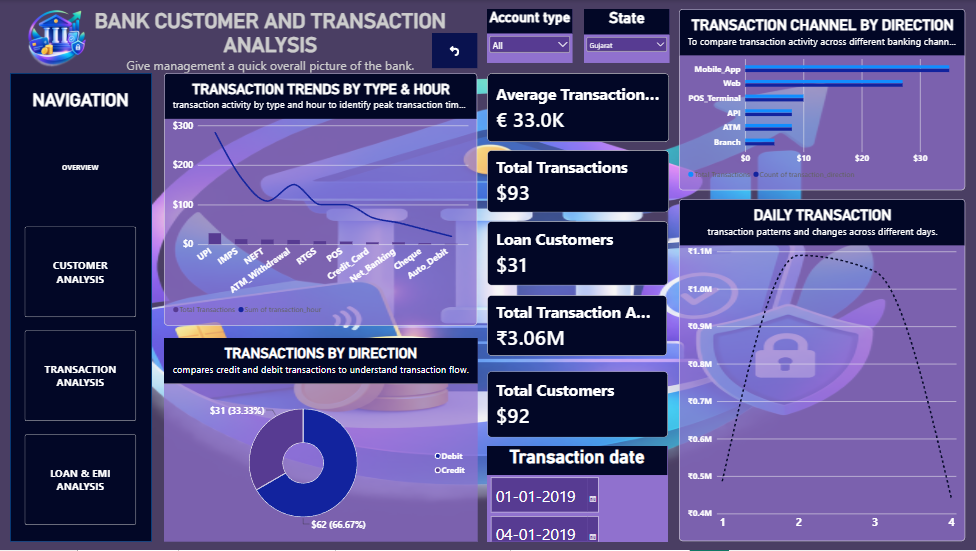

What the dashboard file says about the page in this screenshot:
{"tool":"powerbi","page":{"name":"OVERVIEW","canvas":[1920,1080],"ordinal":0},"visuals":[{"type":"textbox","title":"BANK CUSTOMER AND TRANSACTION ANALYSIS","box":[125.3,17.3,814.3,125.3],"z":0},{"type":"shape","box":[21.6,142.6,278.6,920.2],"z":0,"group":"g1"},{"type":"actionButton","box":[1519.4,0,400.6,128.5],"z":1000},{"type":"image","box":[0,17.3,190.1,110.2],"z":2000},{"type":"cardVisual","fields":{"Data":["Sheet1.Loan Customers"]},"box":[959,434.2,356.4,127.4],"z":3000},{"type":"cardVisual","fields":{"Data":["Sheet1.Average Transaction Amount"]},"box":[959,142.6,358.6,136.1],"z":4000},{"type":"cardVisual","fields":{"Data":["Sheet1.Total Transactions"]},"box":[959,293.8,358.6,123.1],"z":5000},{"type":"cardVisual","fields":{"Data":["Sheet1.Total Transaction Amount"]},"box":[959,578.9,354.2,121],"z":6000},{"type":"cardVisual","fields":{"Data":["Sheet1.Total Customers"]},"box":[959,727.9,356.4,131.8],"z":7000},{"type":"lineChart","title":"DAILY TRANSACTION","fields":{"Category":["Sheet1.transaction_date.Variation.Date Hierarchy.Day"],"Y":["Sheet1.Total Transaction Amount"]},"box":[1334.9,391,561.6,671.8],"z":8000},{"type":"lineStackedColumnComboChart","title":"TRANSACTION TRENDS BY TYPE & HOUR","fields":{"Category":["Sheet1.transaction_type"],"Y":["Sheet1.Total Transactions"],"Y2":["Sum(Sheet1.transaction_hour)"]},"box":[324,142.6,614.8,496.4],"z":9000},{"type":"donutChart","title":"TRANSACTIONS BY DIRECTION","fields":{"Category":["Sheet1.transaction_direction"],"Y":["Sheet1.Total Transactions"]},"box":[324,663.1,615.6,399.6],"z":10000},{"type":"clusteredBarChart","title":"TRANSACTION CHANNEL BY DIRECTION","fields":{"Category":["Sheet1.channel"],"Y":["Sheet1.Total Transactions","CountNonNull(Sheet1.transaction_direction)"]},"box":[1334.9,17.3,561.6,356.4],"z":11000},{"type":"slicer","title":"Transaction date","fields":{"Values":["Sheet1.transaction_date"]},"box":[959,874.8,354.2,187.9],"z":12000},{"type":"slicer","title":"State","fields":{"Values":["Sheet1.state"]},"box":[1149.1,17.3,168.5,105.8],"z":13000},{"type":"slicer","title":"Account type","fields":{"Values":["Sheet1.has_loan"]},"box":[959,17.3,168.5,105.8],"z":14000},{"type":"pageNavigator","title":"NAVIGATION","box":[41,176.2,237.6,863.3],"z":15500,"group":"g1"},{"type":"actionButton","box":[851,64.8,88.6,69.1],"z":16000},{"type":"group","id":"g1","title":"Group 1","box":[21.6,142.6,278.6,920.2],"z":18000}]}

Visuals, with their boxes in screenshot pixels (x1, y1, x2, y2), scaled from the page's 1920x1080 canvas onto the 976x551 screenshot:
"BANK CUSTOMER AND TRANSACTION ANALYSIS" textbox: <box>64,9,478,73</box>
shape: <box>11,73,153,542</box>
actionButton: <box>772,0,975,66</box>
image: <box>0,9,97,65</box>
cardVisual - Sheet1.Loan Customers: <box>487,222,669,287</box>
cardVisual - Sheet1.Average Transaction Amount: <box>487,73,670,142</box>
cardVisual - Sheet1.Total Transactions: <box>487,150,670,213</box>
cardVisual - Sheet1.Total Transaction Amount: <box>487,295,668,357</box>
cardVisual - Sheet1.Total Customers: <box>487,371,669,439</box>
"DAILY TRANSACTION" lineChart: <box>679,199,964,542</box>
"TRANSACTION TRENDS BY TYPE & HOUR" lineStackedColumnComboChart: <box>165,73,477,326</box>
"TRANSACTIONS BY DIRECTION" donutChart: <box>165,338,478,542</box>
"TRANSACTION CHANNEL BY DIRECTION" clusteredBarChart: <box>679,9,964,191</box>
"Transaction date" slicer: <box>487,446,668,542</box>
"State" slicer: <box>584,9,670,63</box>
"Account type" slicer: <box>487,9,573,63</box>
"NAVIGATION" pageNavigator: <box>21,90,142,530</box>
actionButton: <box>433,33,478,68</box>
"Group 1" group: <box>11,73,153,542</box>
